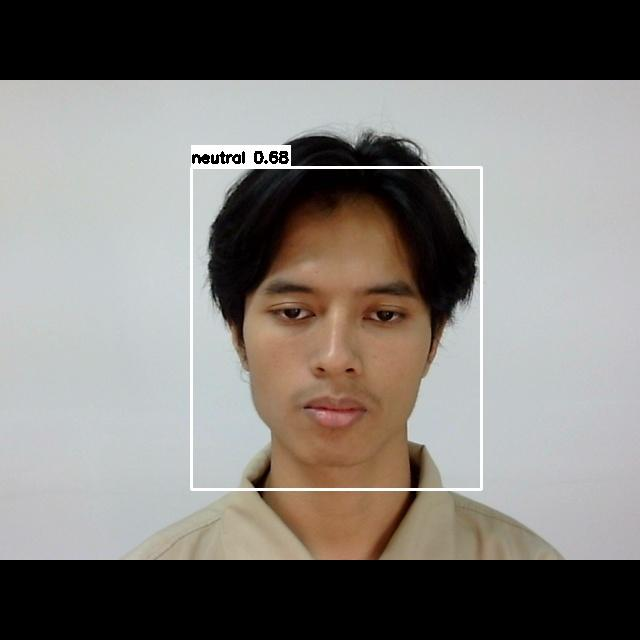Natural: (246, 264, 433, 445)
